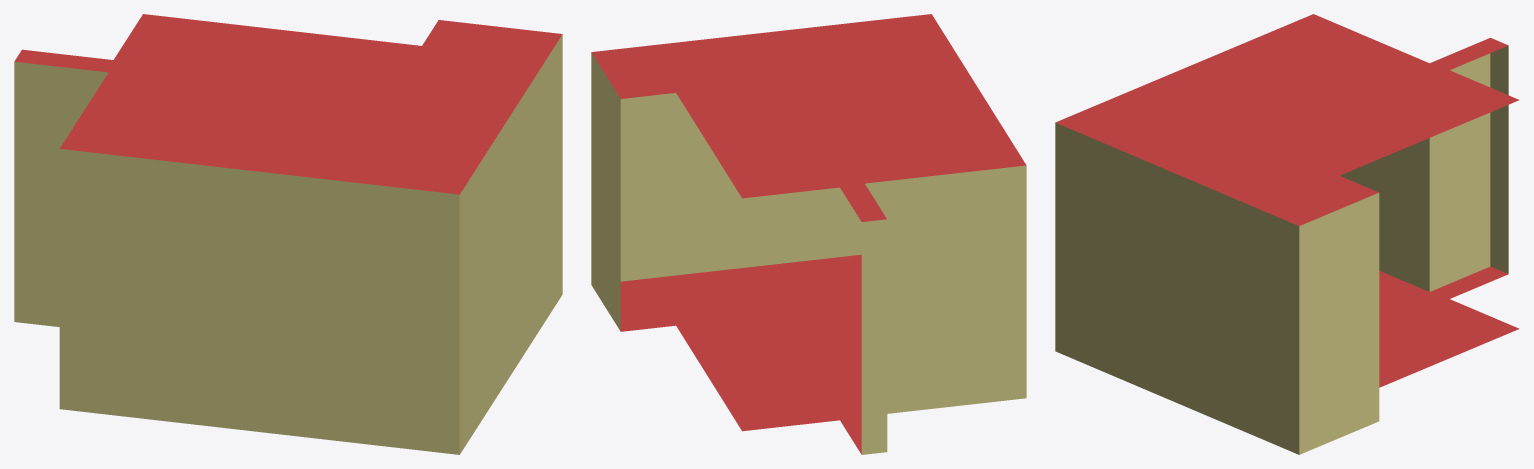
3 views of the same model, side by side, from view 1: azimuth 30°, elevation 25°; view 2: azimuth 150°, elevation 25°; view 3: azimuth 270°, elevation 25° (orthographic). The views are drawn at different scales.
Bounding box in the file's own units: 9.7 × 8.97 × 4.87.
